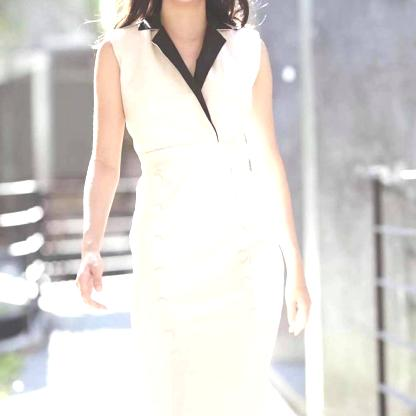jacket: (110, 20, 287, 416)
